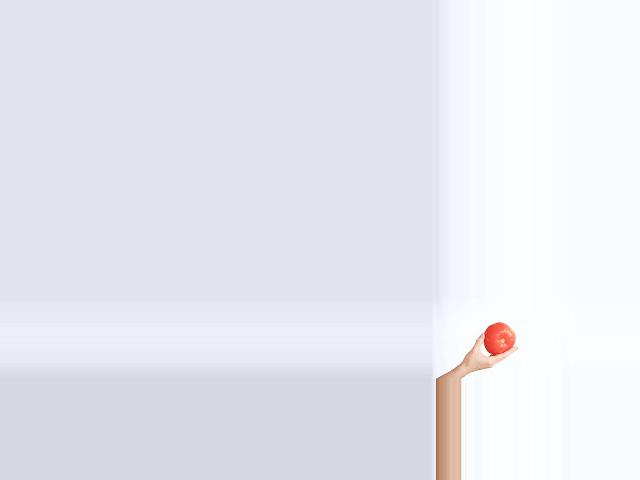tomato: (484, 322, 516, 354)
